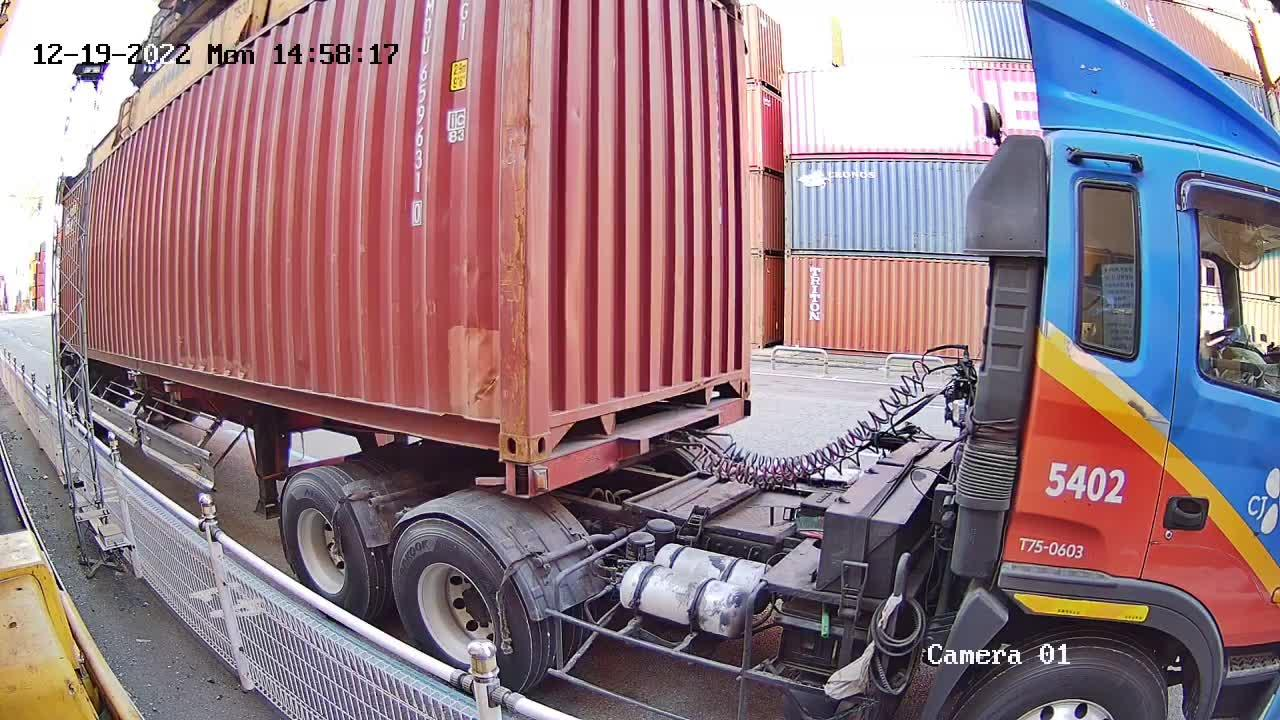Chassis: (501, 396, 753, 499)
Cone: (497, 456, 529, 497)
Hole_L: (525, 393, 578, 462)
Hole_R: (470, 393, 527, 463), (714, 353, 753, 409)
Tire: (392, 518, 529, 686), (280, 476, 369, 614)
